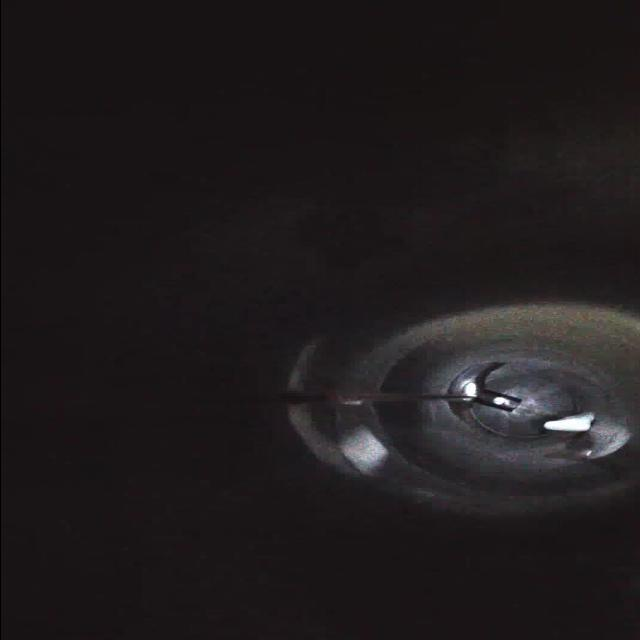impurity: (538, 408, 602, 438)
